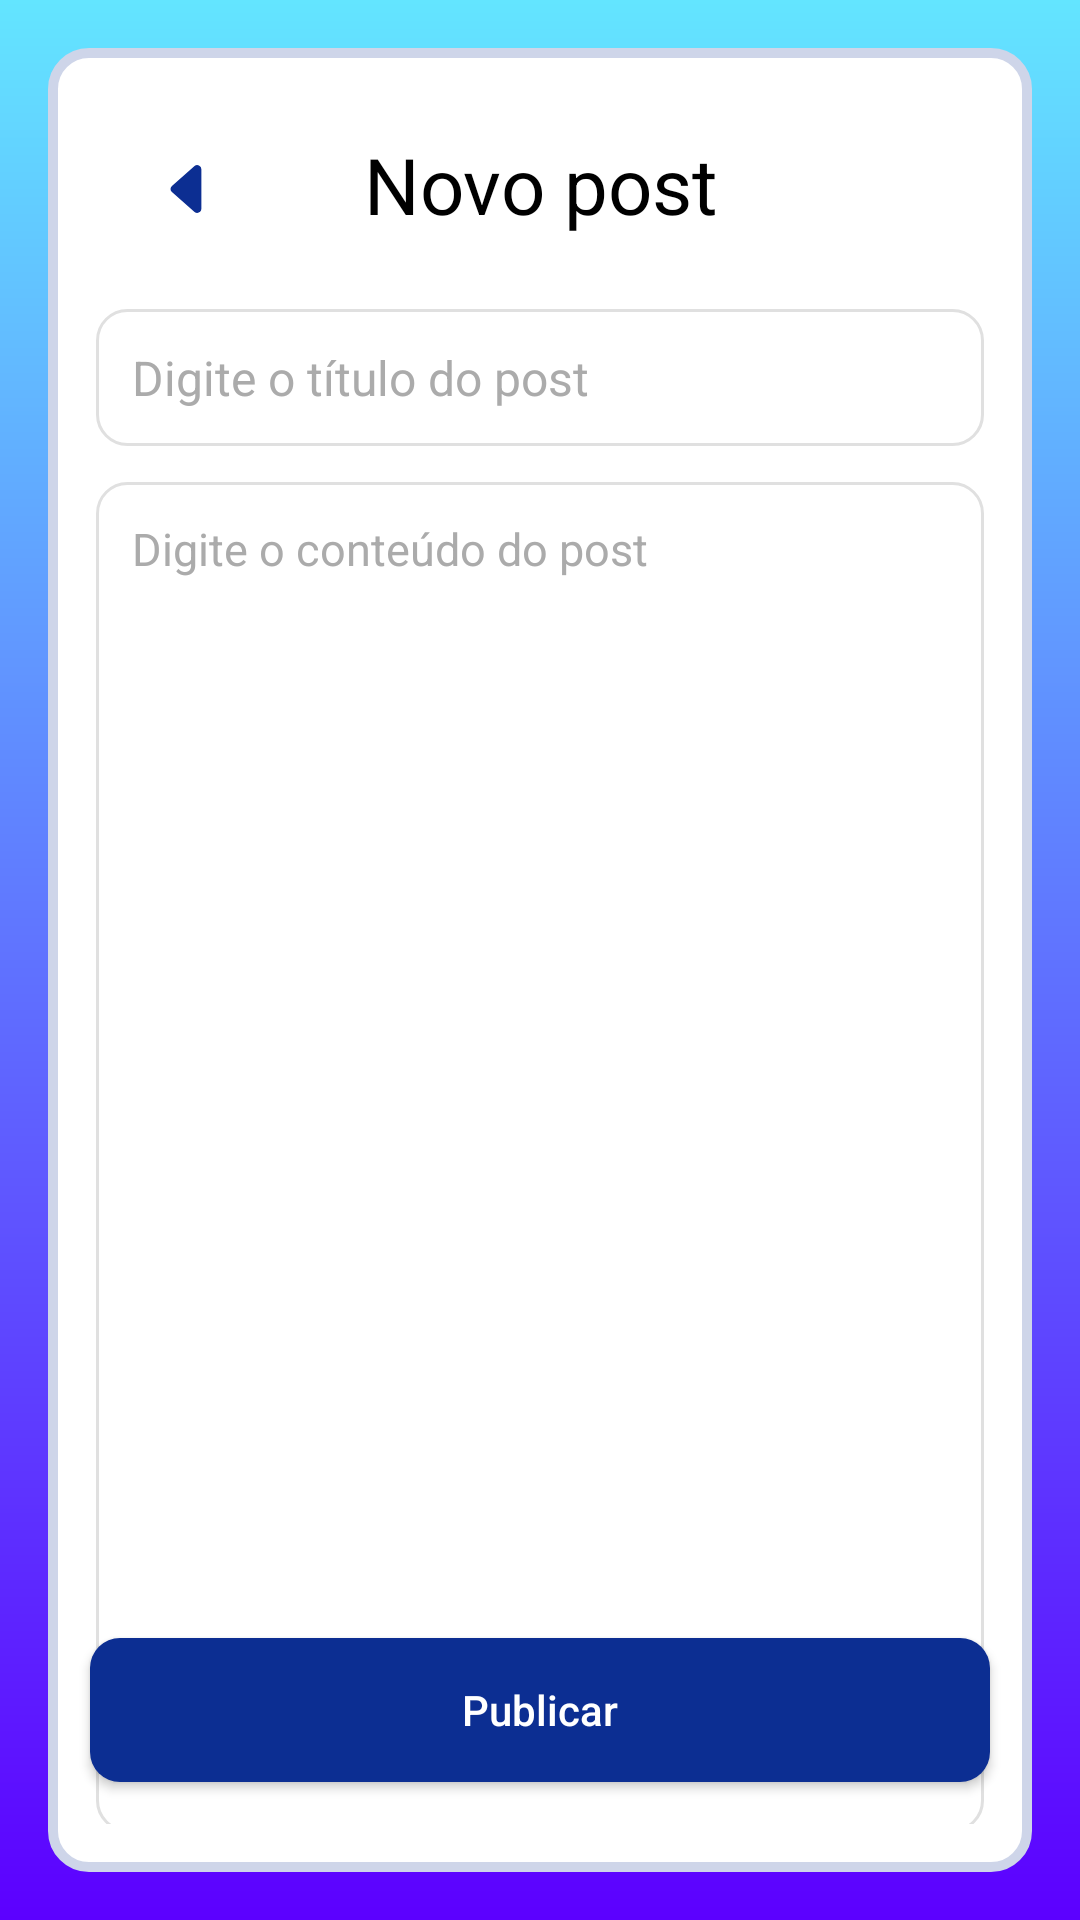

Screen size 1080w x 1920h. Icon name, then its box in pixels as (x1, y1, x2, y2):
caret left: (170, 165, 202, 213)
